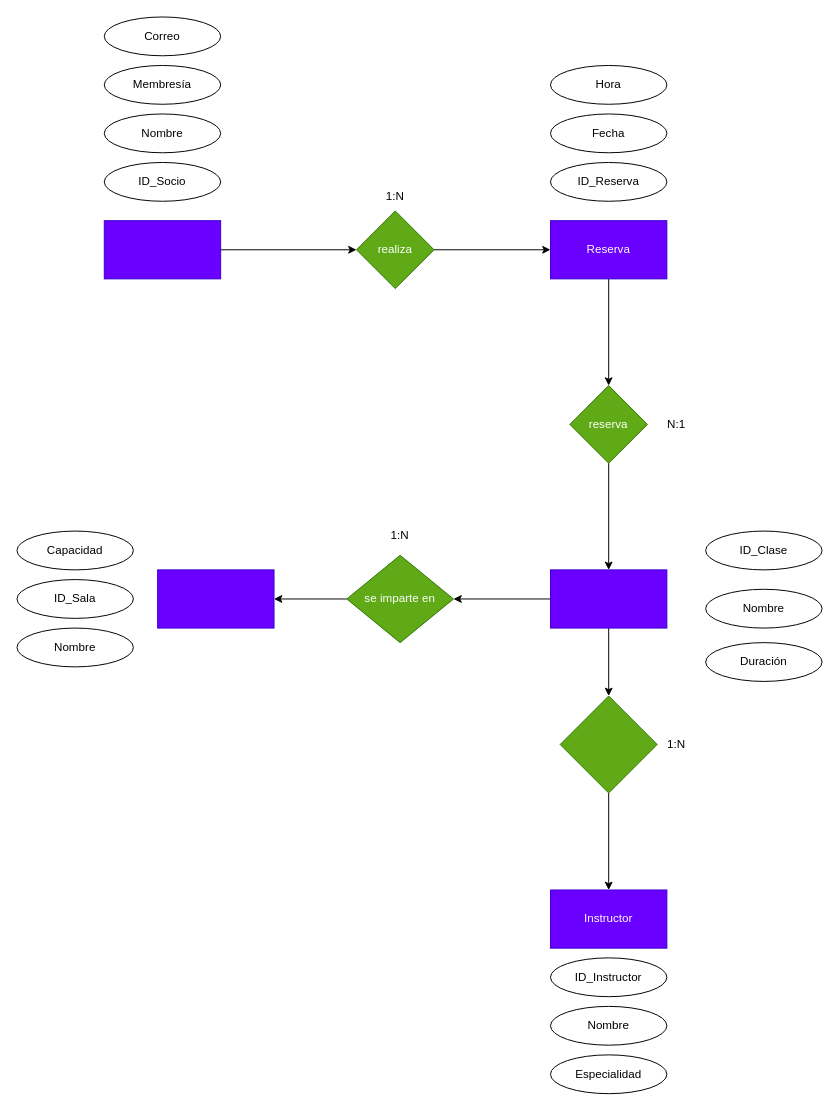
Some shapes in this 839 by 1111 pixel diagram are drawn without their labels. The shapes that lost their labels are listed below. From the top down, each one's centre as x and y in pixels, then its label:
point (162, 249): Socio
point (215, 598): Sala
point (608, 598): Clase
point (608, 744): es impartida por
